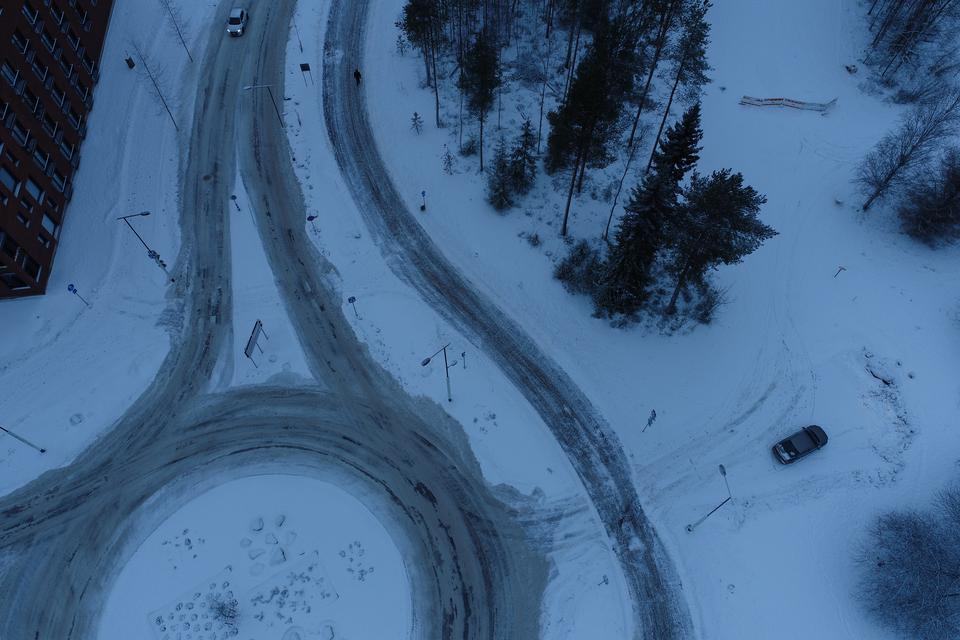roundabout: (0, 348, 720, 640)
